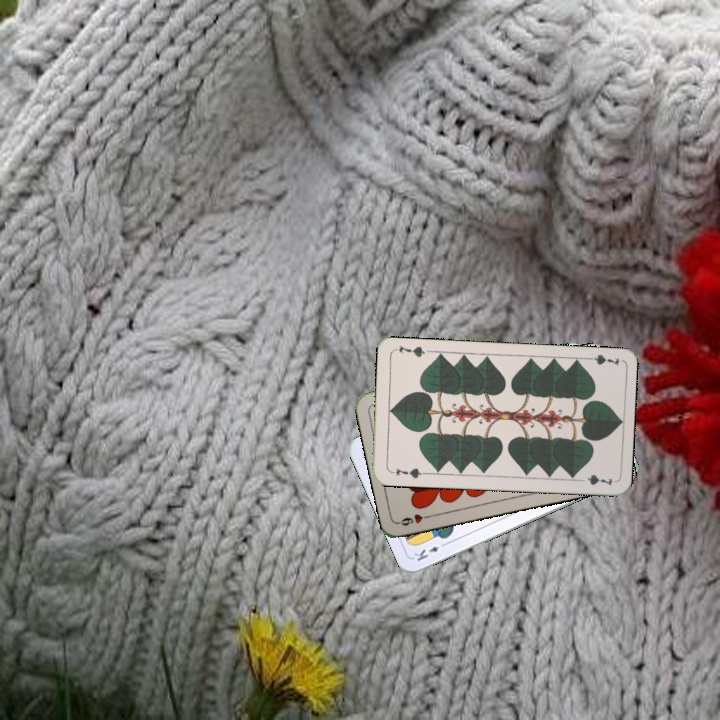EK: (410, 538, 450, 564)
G7: (580, 350, 621, 368), (386, 464, 427, 481)
H9: (395, 510, 435, 528)
